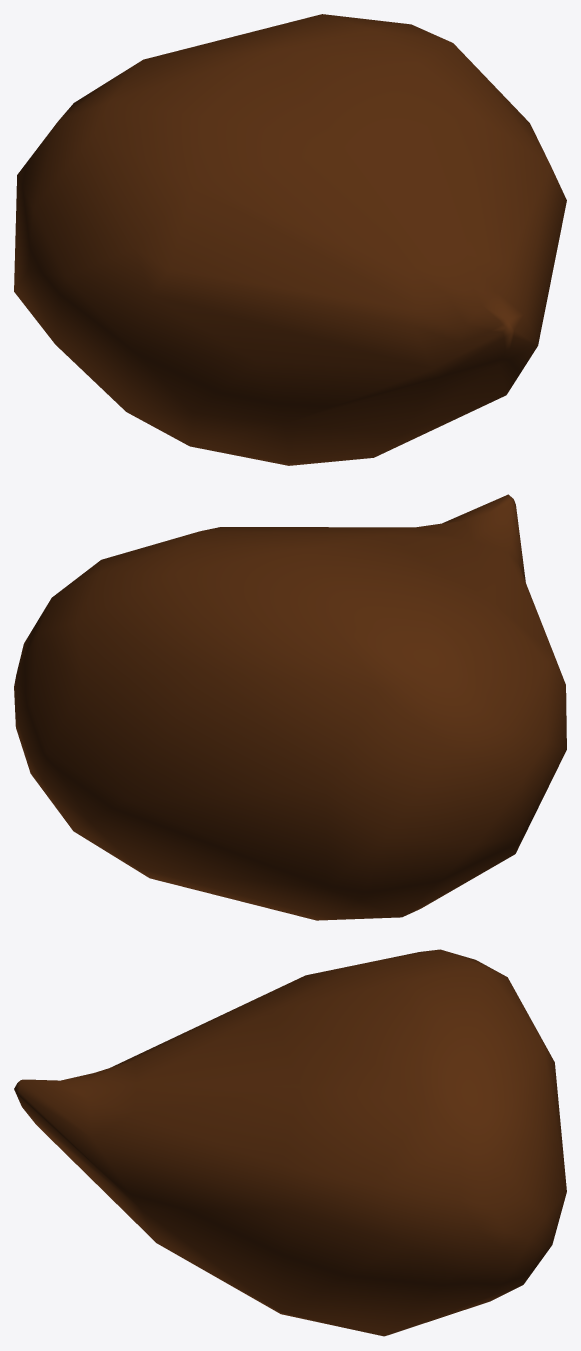
File: Urinary_bladder.glb
3 renders of one model, top to bottom at view 1: azimuth 30°, elevation 25°; view 2: azimuth 150°, elevation 25°; view 3: azimuth 270°, elevation 25°, orthographic. The views are drawn at different scales.
Visible parts, largest first — view 1: Urinary_bladder_Generated_Mesh_From_X3D.102; view 2: Urinary_bladder_Generated_Mesh_From_X3D.102; view 3: Urinary_bladder_Generated_Mesh_From_X3D.102.
Part boxes in pixels (<box>): Urinary_bladder_Generated_Mesh_From_X3D.102: <box>14,14,566,465</box>; Urinary_bladder_Generated_Mesh_From_X3D.102: <box>14,494,566,920</box>; Urinary_bladder_Generated_Mesh_From_X3D.102: <box>14,949,566,1336</box>.
Size of the model in its own units: 0.0749 by 0.0531 by 0.0849.
